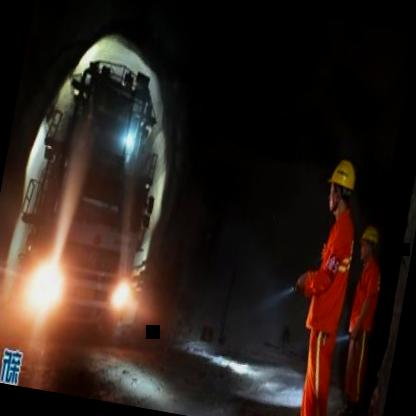helmet: (321, 150, 361, 222), (353, 220, 384, 270)
